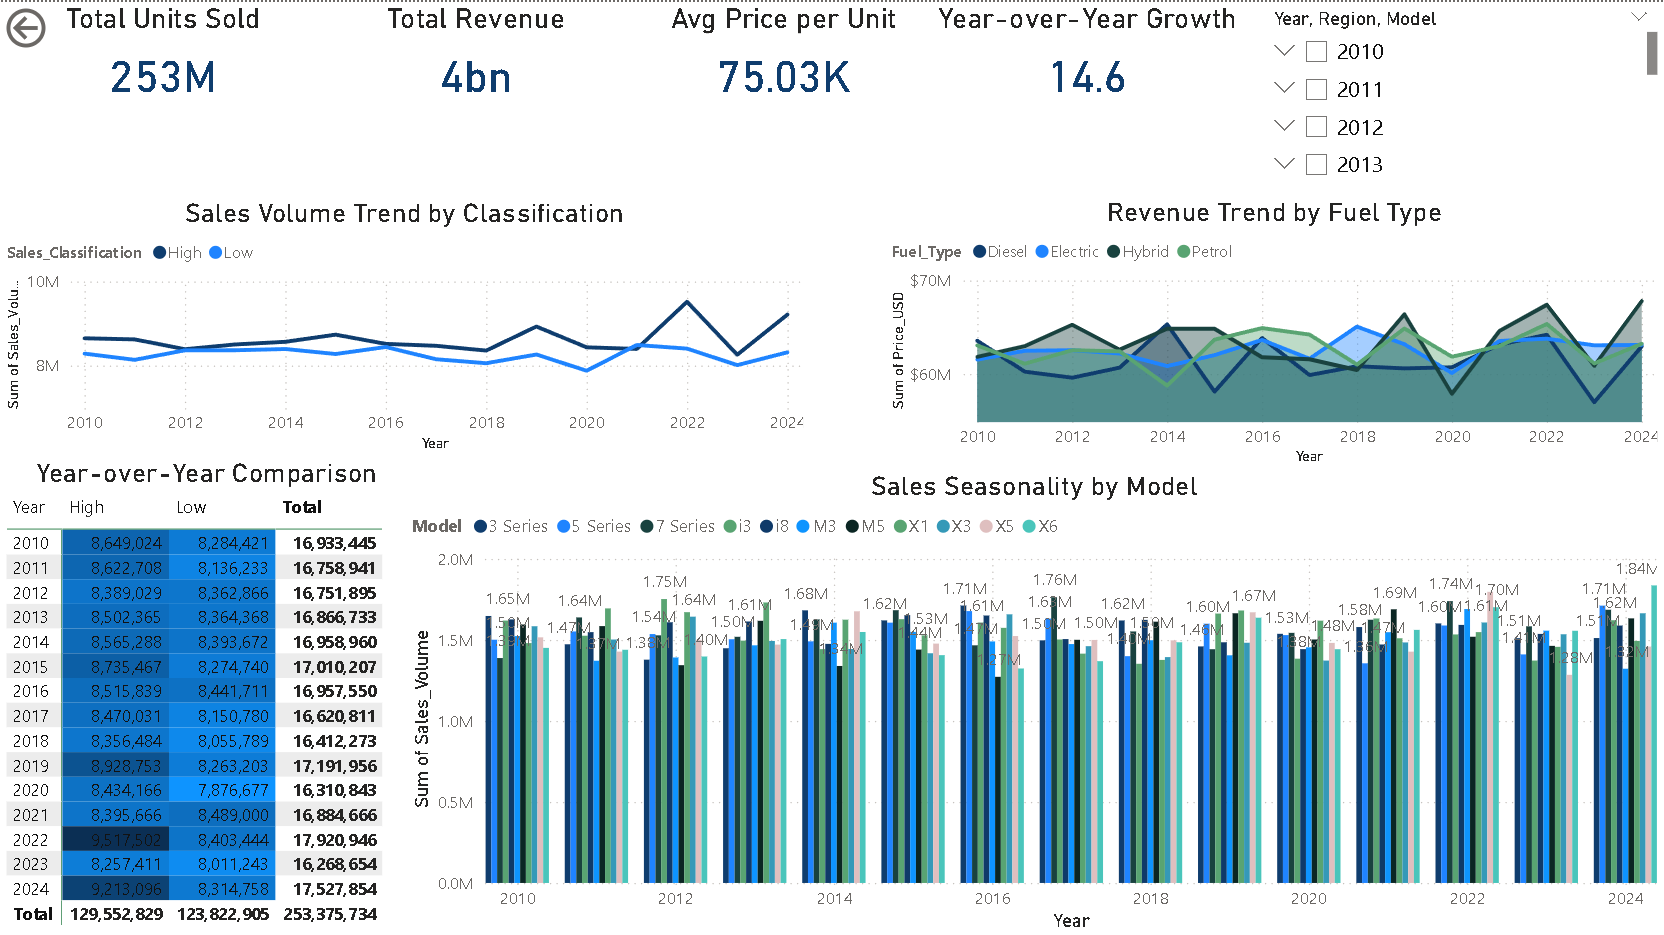

This screenshot's page, from the dashboard's own definition file:
{"tool":"powerbi","page":{"name":"Time Series Analysis Dashboard","canvas":[1280,720],"ordinal":0},"visuals":[{"type":"card","title":"Total Units Sold","fields":{"Values":["BMW sales data (2010-2024).Total Sales Volume"]},"box":[0,0,250.9,84.5],"z":0},{"type":"card","title":"Total Revenue","fields":{"Values":["BMW sales data (2010-2024).Total Revenue"]},"box":[250.9,0,230.9,84.5],"z":1000},{"type":"card","title":"Avg Price per Unit","fields":{"Values":["BMW sales data (2010-2024).Average Price"]},"box":[481.8,0,242.7,84.5],"z":2000},{"type":"card","title":"Year-over-Year Growth","fields":{"Values":["BMW sales data (2010-2024).YoY Growth"]},"box":[705.5,0,261.8,84.5],"z":3000},{"type":"actionButton","box":[0,0,100,40],"z":4000},{"type":"areaChart","title":"Revenue Trend by Fuel Type","fields":{"Category":["BMW sales data (2010-2024).Year"],"Y":["Sum(BMW sales data (2010-2024).Price_USD)"],"Series":["BMW sales data (2010-2024).Fuel_Type"]},"box":[680.9,149.1,599.1,210.9],"z":5000},{"type":"pivotTable","title":"Year-over-Year Comparison","fields":{"Rows":["BMW sales data (2010-2024).Year"],"Columns":["BMW sales data (2010-2024).Sales_Classification"],"Values":["Sum(BMW sales data (2010-2024).Sales_Volume)"]},"box":[0,350,318.2,370],"z":6000},{"type":"clusteredColumnChart","title":"Sales Seasonality by Model","fields":{"Category":["BMW sales data (2010-2024).Year"],"Series":["BMW sales data (2010-2024).Model"],"Y":["Sum(BMW sales data (2010-2024).Sales_Volume)"]},"box":[311.8,360,968.2,360],"z":7000},{"type":"lineChart","title":"Sales Volume Trend by Classification","fields":{"Category":["BMW sales data (2010-2024).Year"],"Y":["Sum(BMW sales data (2010-2024).Sales_Volume)"],"Series":["BMW sales data (2010-2024).Sales_Classification"]},"box":[0,150,622.7,200],"z":8000},{"type":"slicer","fields":{"Values":["BMW sales data (2010-2024).Year","BMW sales data (2010-2024).Region","BMW sales data (2010-2024).Model"]},"box":[967.3,0,312.7,149.1],"z":9000}]}

Visuals, with their boxes in screenshot pixels (x1, y1, x2, y2), scaled from the page's 1280x720 canvas onto the 1664x935 screenshot:
"Total Units Sold" card: {"left": 0, "top": 0, "right": 326, "bottom": 110}
"Total Revenue" card: {"left": 326, "top": 0, "right": 626, "bottom": 110}
"Avg Price per Unit" card: {"left": 626, "top": 0, "right": 942, "bottom": 110}
"Year-over-Year Growth" card: {"left": 917, "top": 0, "right": 1257, "bottom": 110}
actionButton: {"left": 0, "top": 0, "right": 130, "bottom": 52}
"Revenue Trend by Fuel Type" areaChart: {"left": 885, "top": 194, "right": 1663, "bottom": 468}
"Year-over-Year Comparison" pivotTable: {"left": 0, "top": 455, "right": 414, "bottom": 934}
"Sales Seasonality by Model" clusteredColumnChart: {"left": 405, "top": 468, "right": 1663, "bottom": 934}
"Sales Volume Trend by Classification" lineChart: {"left": 0, "top": 195, "right": 810, "bottom": 455}
slicer - BMW sales data (2010-2024).Year x BMW sales data (2010-2024).Region: {"left": 1257, "top": 0, "right": 1663, "bottom": 194}
